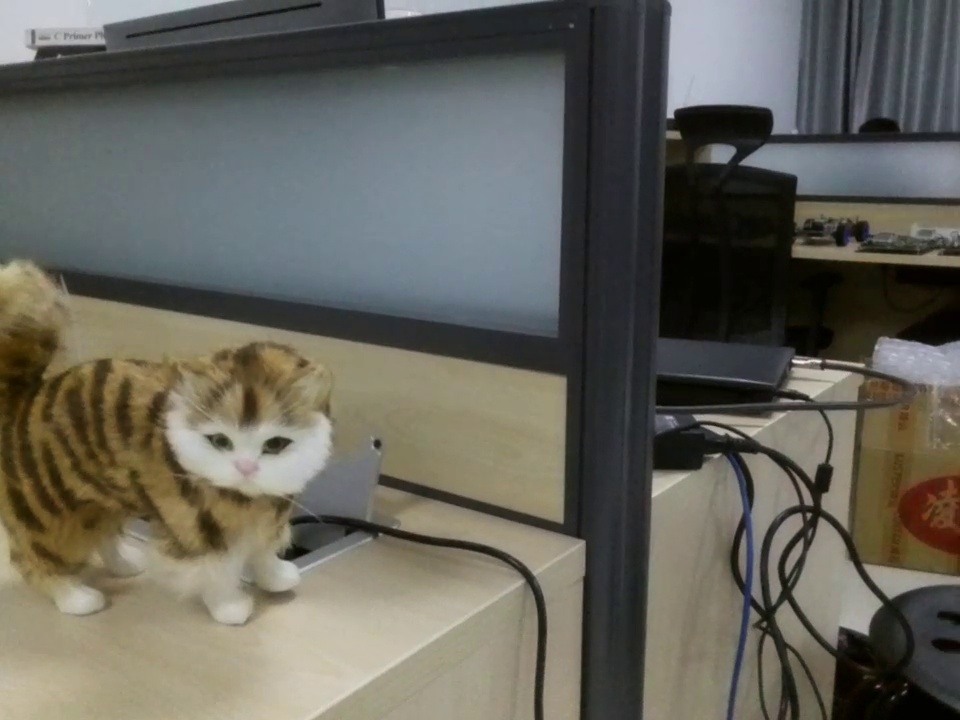cat: (1, 255, 357, 651)
